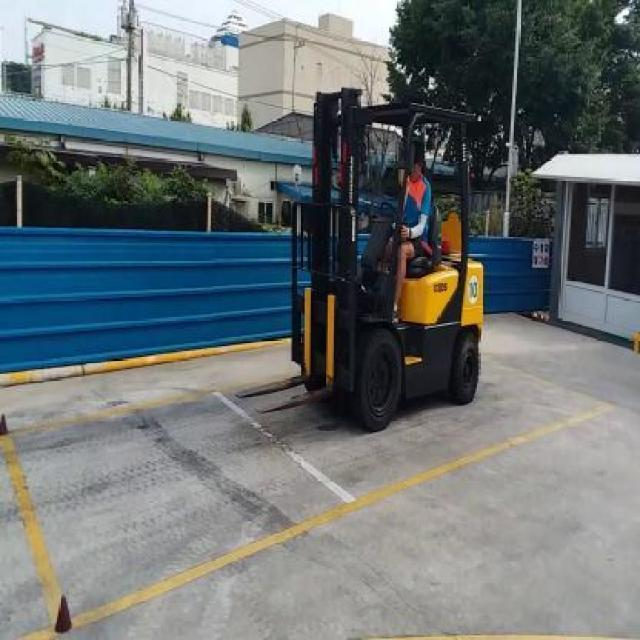forklift: (303, 100, 483, 428)
